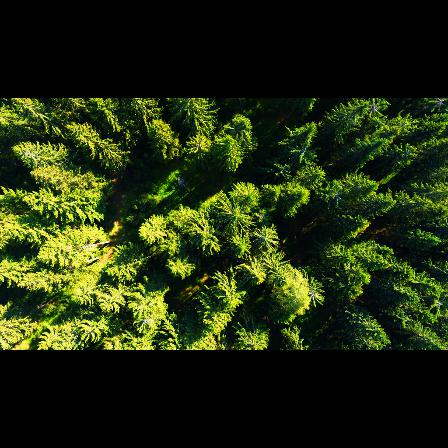Sick: (290, 136, 321, 166), (302, 278, 326, 310), (430, 98, 448, 117)
